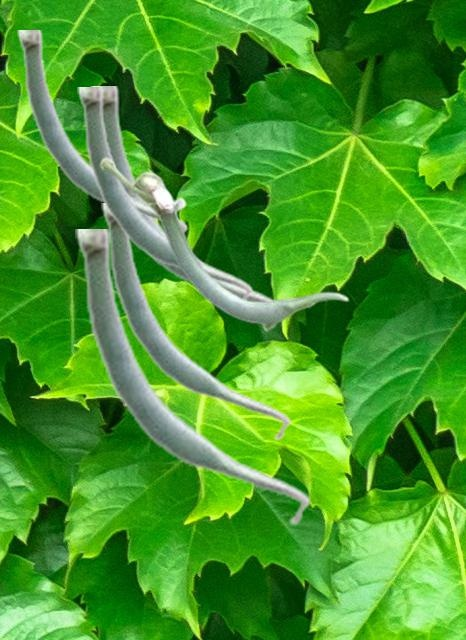french_bean: (75, 229, 310, 526), (90, 86, 281, 329), (101, 206, 290, 441), (99, 156, 348, 331), (77, 87, 252, 299), (17, 30, 187, 235)
